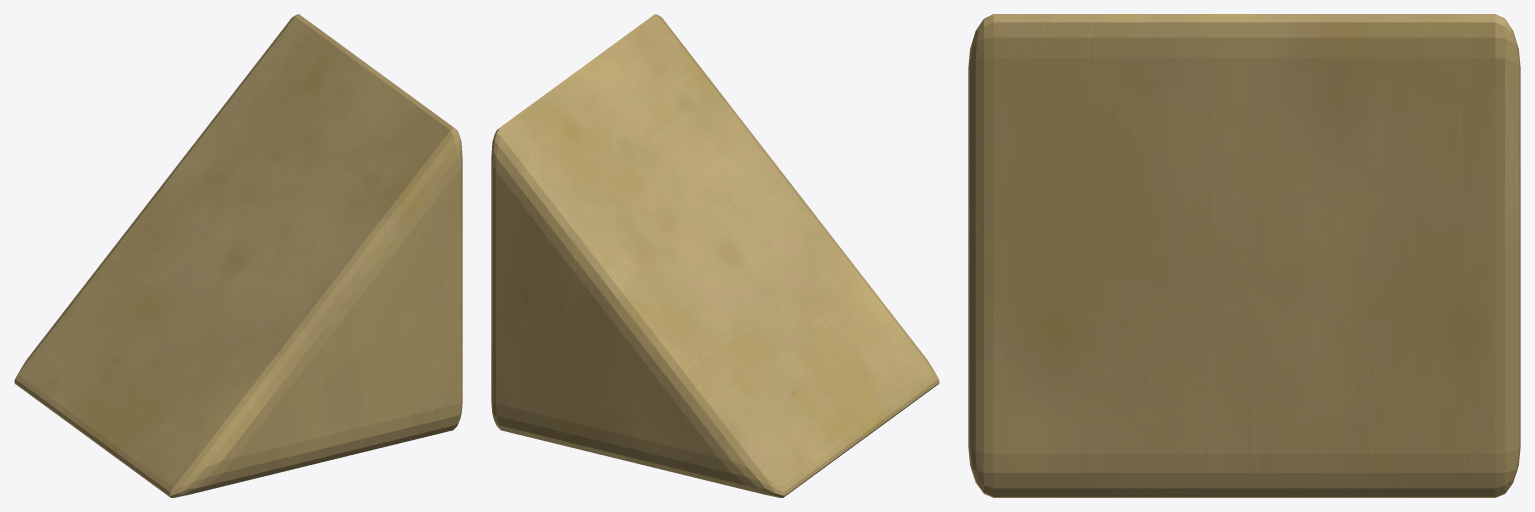
The model's file is Cheese.glb.
The picture shows the model from 3 angles, left to right: view 1: azimuth 30°, elevation 25°; view 2: azimuth 150°, elevation 25°; view 3: azimuth 270°, elevation 25°; orthographic projection. The views are drawn at different scales.
Visible parts, largest first — view 1: Cube.001; view 2: Cube.001; view 3: Cube.001.
Part boxes in pixels (bbox=[...]): Cube.001: bbox=[14, 14, 462, 497]; Cube.001: bbox=[491, 14, 939, 497]; Cube.001: bbox=[968, 14, 1520, 497].
Size of the model in its own units: 0.7352 by 0.7297 by 0.75.
Materials: 1 (1 with a texture image).
